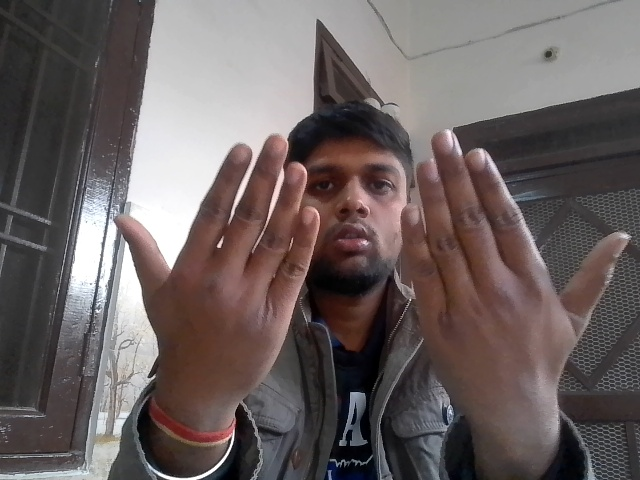ThankYou: (96, 119, 636, 413)
